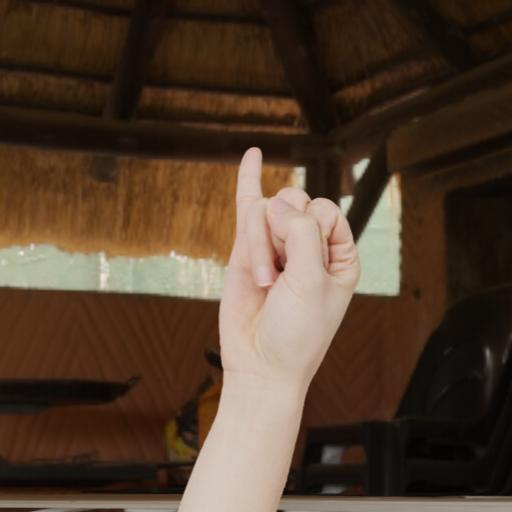I: (209, 144, 363, 388)
